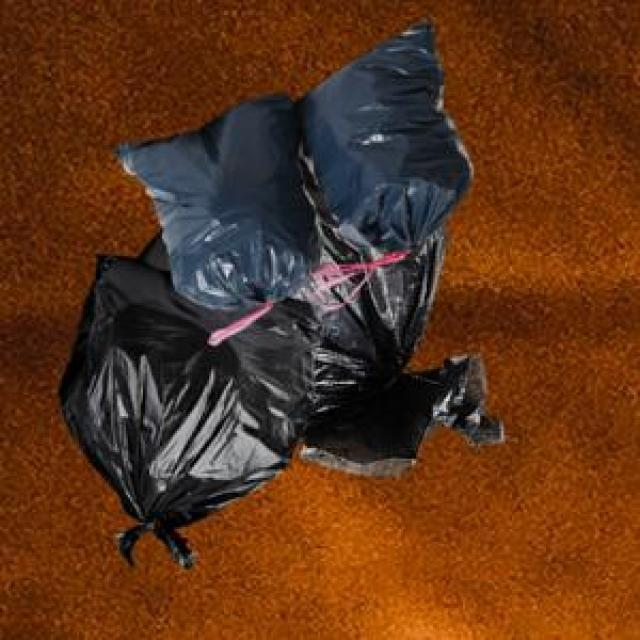waste: (61, 24, 501, 564)
